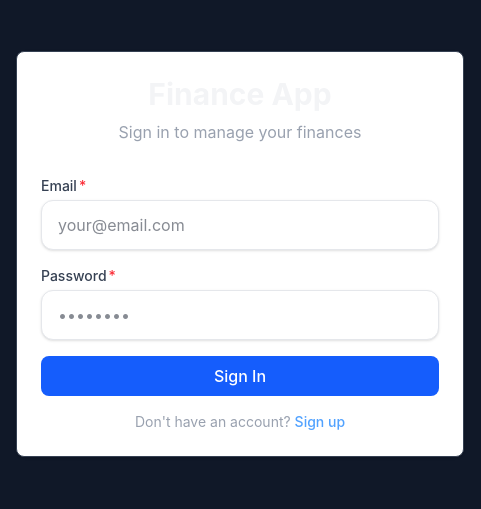
it: LoginPage › shows error message on failed login
Type "bad@test.com" into the field labelled "Email*" at [240, 225], box [41, 200, 439, 250]
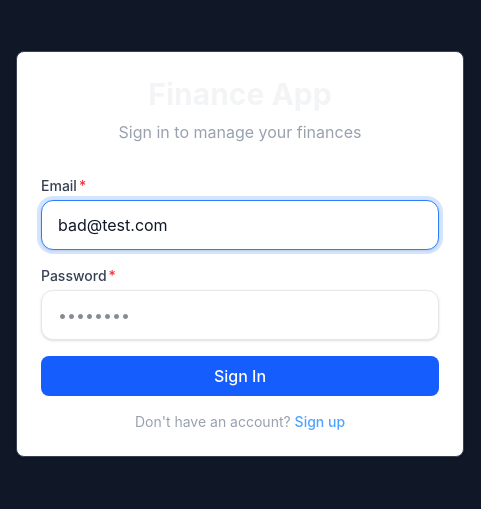
Type "wrong" into the password field labelled "Password*" at [240, 315], box [41, 290, 439, 340]
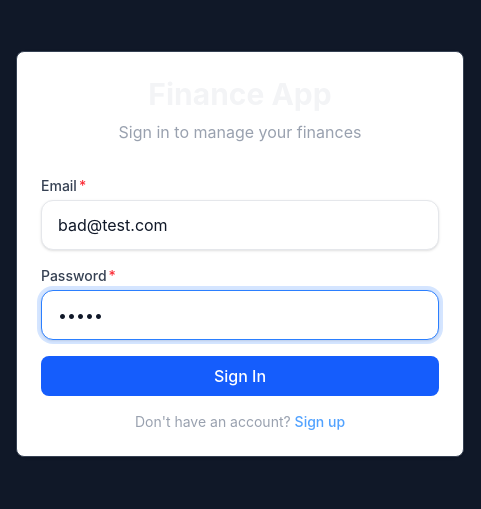
Click the button "Sign In" at [240, 376], box [41, 356, 439, 396]
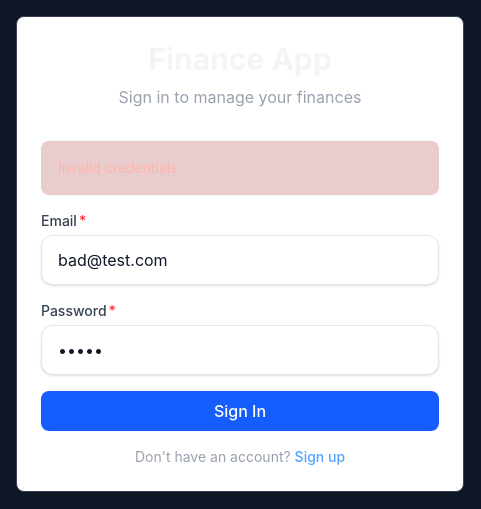
Check: the text "Invalid credentials" is shown, box [41, 141, 439, 195]
